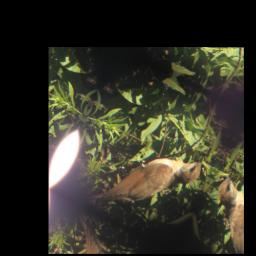Cuckoo: (81, 115, 208, 246)
